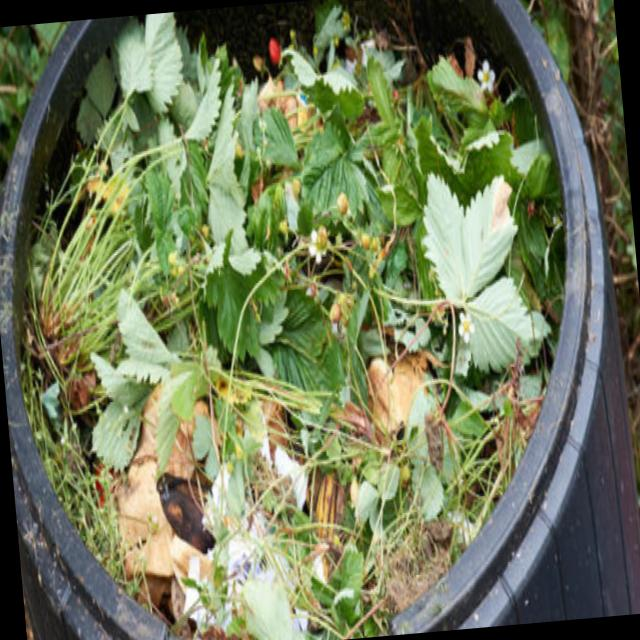paper: (399, 162, 555, 392), (93, 289, 260, 489), (212, 218, 360, 442), (104, 10, 208, 132)
